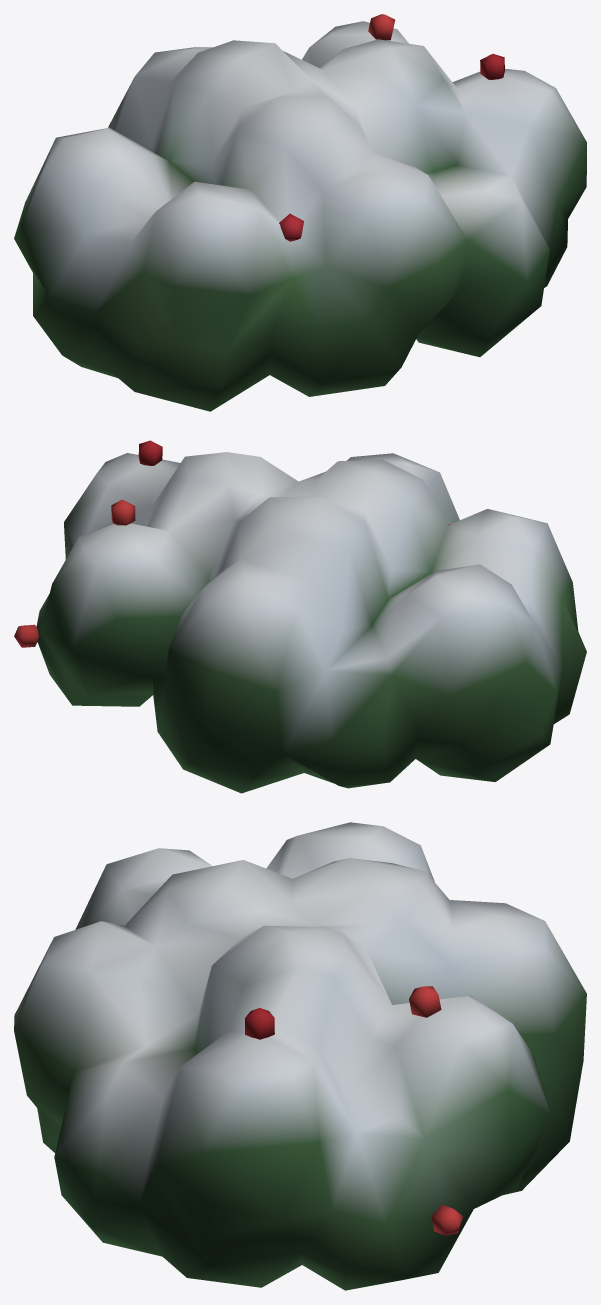
Rendered from bush-b-winter.lod1.glb.
The picture shows the model from 3 angles, top to bottom: view 1: azimuth 30°, elevation 25°; view 2: azimuth 150°, elevation 25°; view 3: azimuth 270°, elevation 25°; orthographic projection. The views are drawn at different scales.
Visible parts, largest first — view 1: bush-b-winter.lod1; view 2: bush-b-winter.lod1; view 3: bush-b-winter.lod1.
Part boxes in pixels (x1,y1,x2,y2): bush-b-winter.lod1: (14,14,586,411); bush-b-winter.lod1: (14,440,586,793); bush-b-winter.lod1: (14,822,586,1290).
Bounding box in the file's own units: 1.33 × 0.6582 × 1.09.
